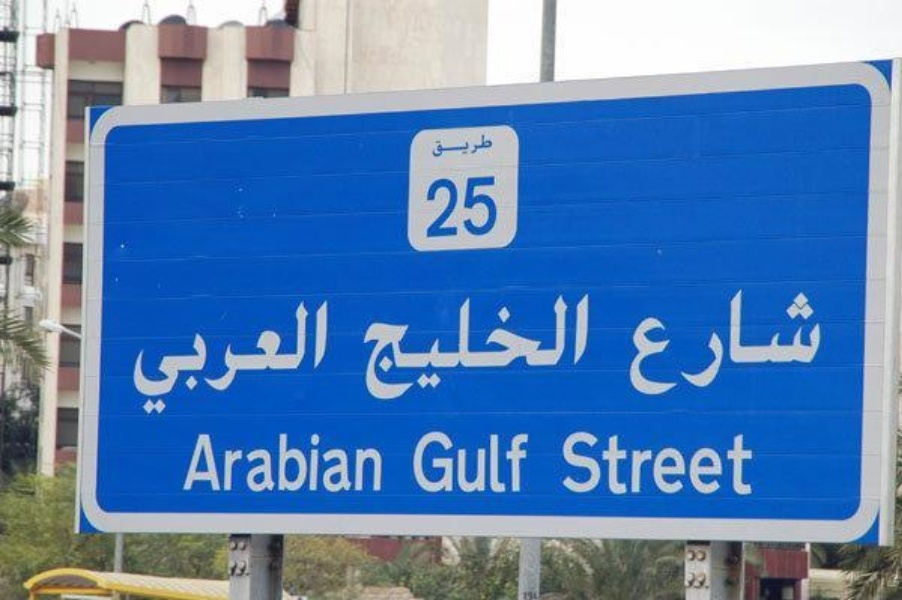text: (625, 282, 640, 405), (641, 282, 656, 405), (657, 282, 672, 405), (673, 282, 688, 405), (689, 282, 704, 405), (705, 282, 720, 405), (721, 282, 736, 405), (737, 282, 752, 405), (753, 282, 768, 405), (769, 282, 784, 405), (785, 282, 800, 405), (801, 282, 816, 405), (145, 295, 160, 417), (161, 295, 176, 417), (177, 295, 192, 417), (193, 295, 208, 417), (209, 295, 224, 417), (225, 295, 240, 417), (241, 295, 256, 417), (257, 295, 272, 417), (273, 295, 288, 417), (289, 295, 304, 417), (305, 295, 320, 417), (369, 294, 384, 404), (385, 294, 400, 404), (401, 294, 416, 404), (417, 294, 432, 404), (433, 294, 448, 404), (449, 294, 464, 404), (465, 294, 480, 404), (481, 294, 496, 404), (497, 294, 512, 404), (513, 294, 528, 404), (529, 294, 544, 404), (545, 294, 560, 404), (561, 294, 576, 404), (577, 294, 591, 404), (133, 295, 144, 417), (321, 295, 330, 417), (417, 428, 432, 495), (433, 428, 448, 495), (449, 428, 464, 495), (465, 428, 480, 495), (481, 428, 496, 495), (497, 428, 512, 495), (513, 428, 528, 495), (561, 431, 576, 497), (577, 431, 592, 497), (593, 431, 608, 497), (609, 431, 624, 497), (625, 431, 640, 497), (641, 431, 656, 497), (657, 431, 672, 497), (673, 431, 688, 497), (689, 431, 704, 497), (705, 431, 720, 497), (721, 431, 736, 497), (737, 431, 752, 497), (433, 173, 448, 238), (449, 173, 464, 238), (465, 173, 480, 238), (481, 173, 496, 238), (209, 431, 224, 494), (225, 431, 240, 494), (241, 431, 256, 494), (257, 431, 272, 494), (273, 431, 288, 494), (289, 431, 304, 494), (305, 431, 320, 494), (321, 431, 336, 494), (337, 431, 352, 494), (353, 431, 368, 494), (369, 431, 384, 494), (817, 282, 824, 405), (197, 431, 208, 494), (409, 428, 416, 495), (364, 294, 368, 404), (433, 133, 448, 160), (449, 133, 464, 160), (465, 133, 480, 160), (481, 133, 494, 160), (427, 173, 432, 238), (497, 173, 501, 238), (753, 431, 755, 497), (529, 428, 530, 495)
